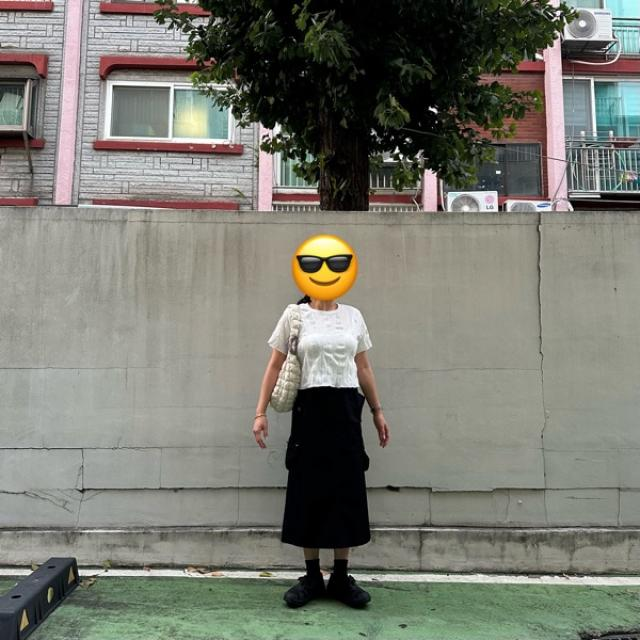shortsleeve: (268, 298, 372, 388)
skirt: (282, 387, 373, 551)
